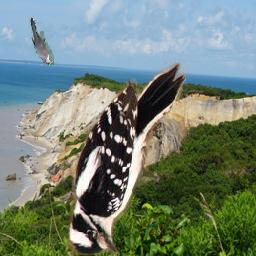Cuckoo: (30, 17, 55, 66)
Woodpecker: (68, 59, 187, 255)
